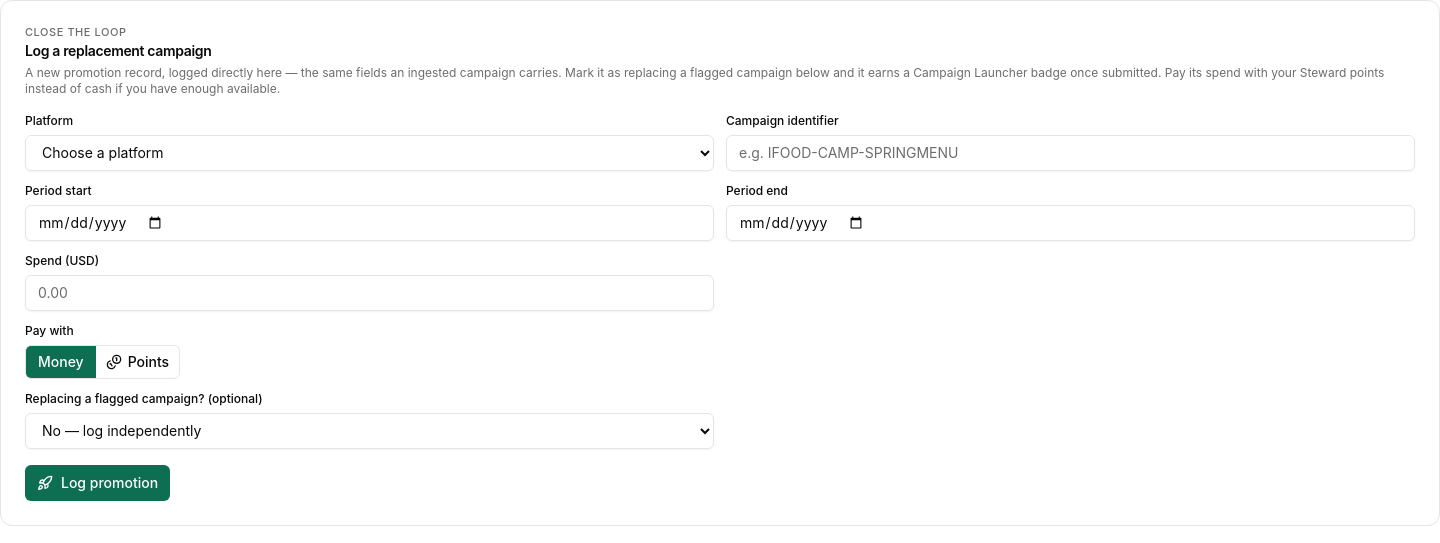
Test: LogReplacementForm › surfaces the real FR-007 refusal from the backend rather than a generic error
Select "Just Eat Takeaway" in the dropdown labelled "Platform" at coordinates (370, 153), box x1=25 y1=135 x2=714 y2=171
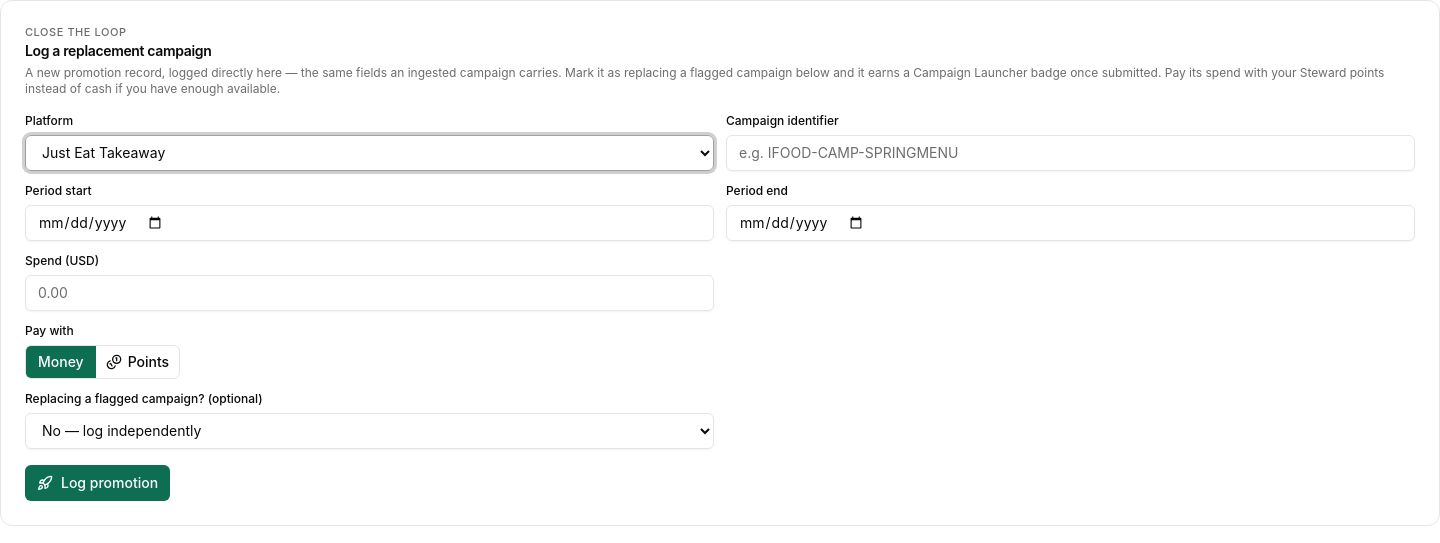
Type "JET-CAMP-NEWREPLACEMENT" into the field labelled "Campaign identifier" at coordinates (1070, 153), box x1=726 y1=135 x2=1415 y2=171
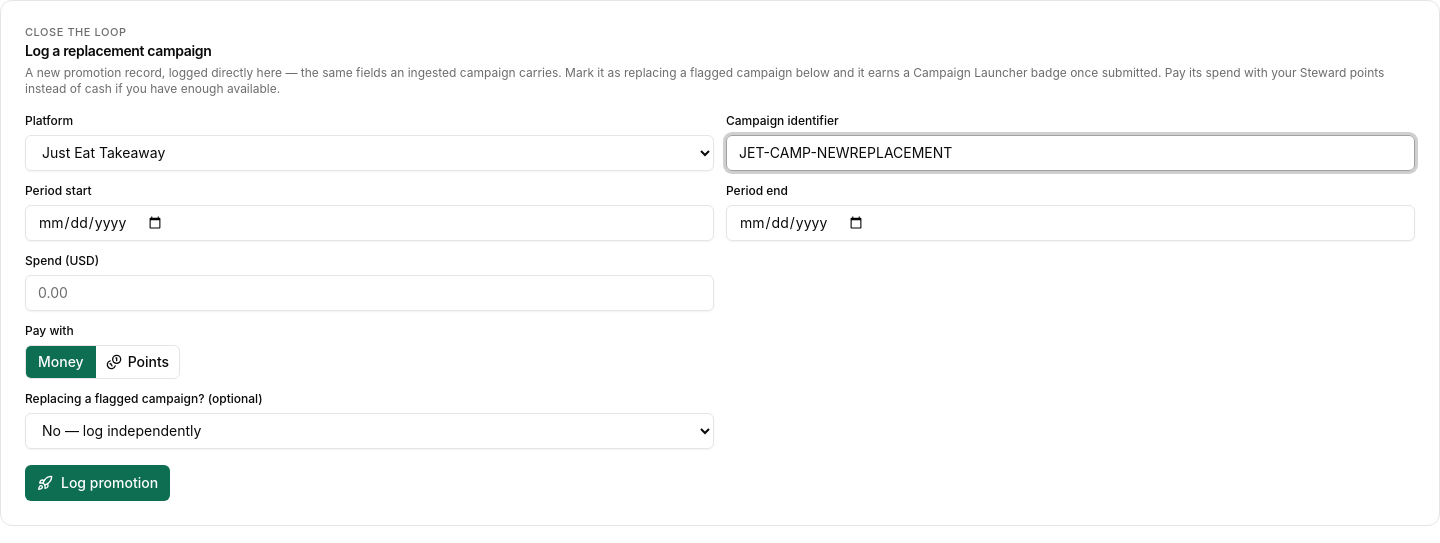
Type "2026-08-15" into the date field labelled "Period start" at coordinates (370, 223), box x1=25 y1=205 x2=714 y2=241
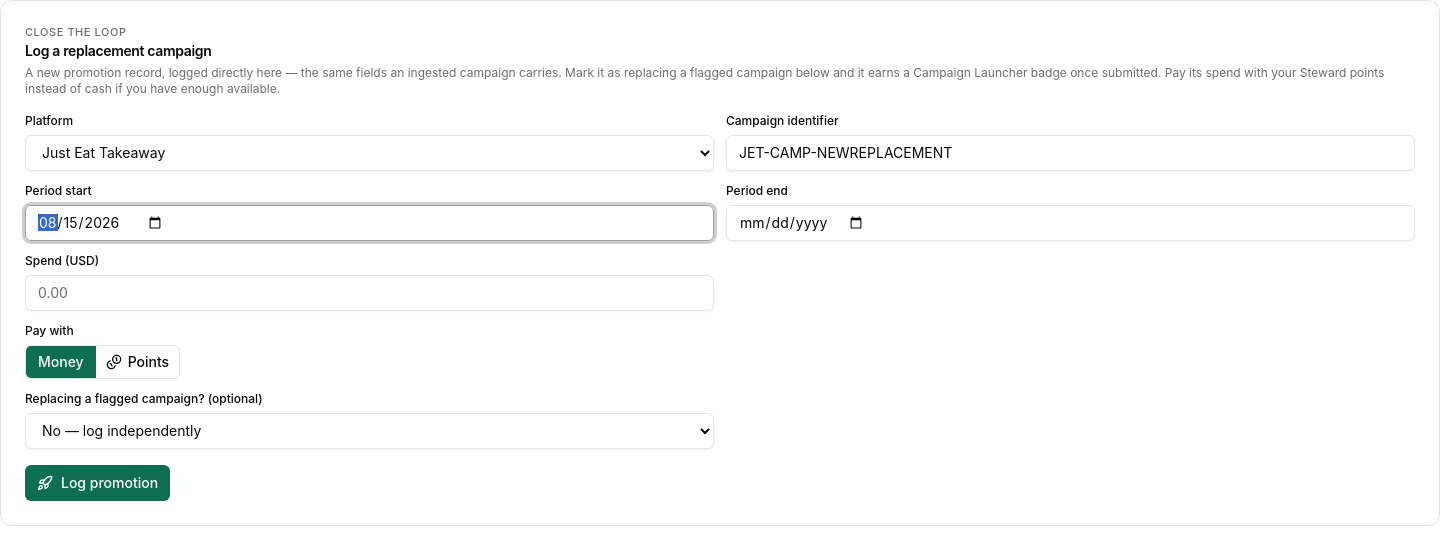
Type "2026-08-21" into the date field labelled "Period end" at coordinates (1070, 223), box x1=726 y1=205 x2=1415 y2=241
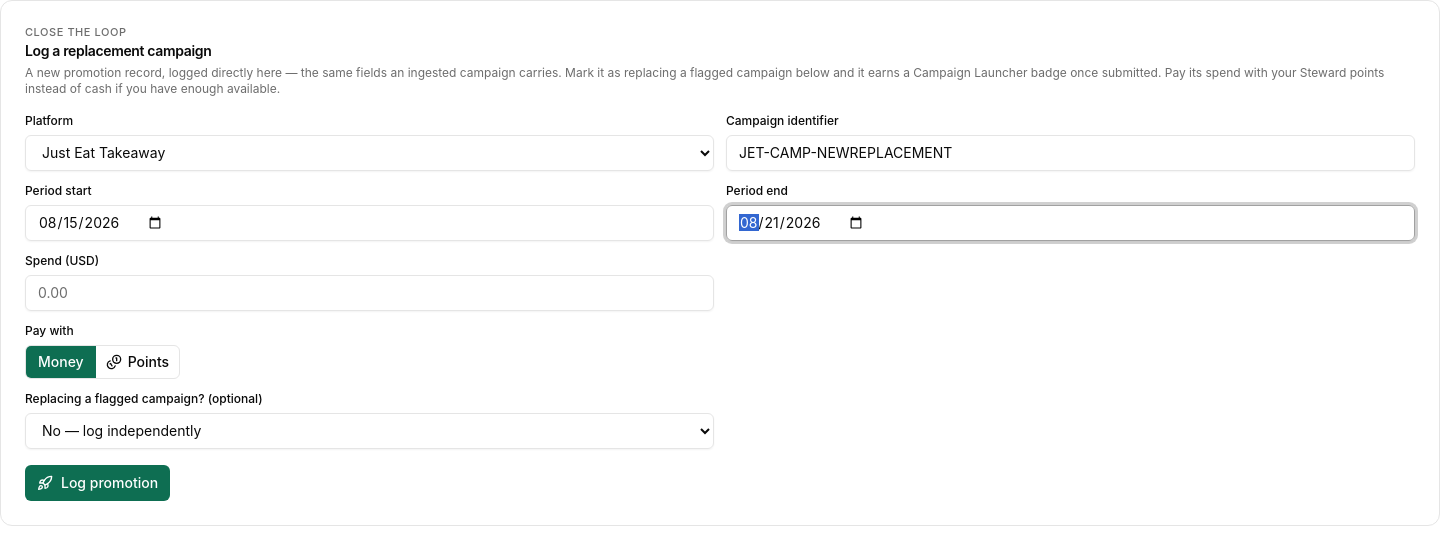
Type "75" into the number field labelled "Spend (USD)" at coordinates (370, 293), box x1=25 y1=275 x2=714 y2=311
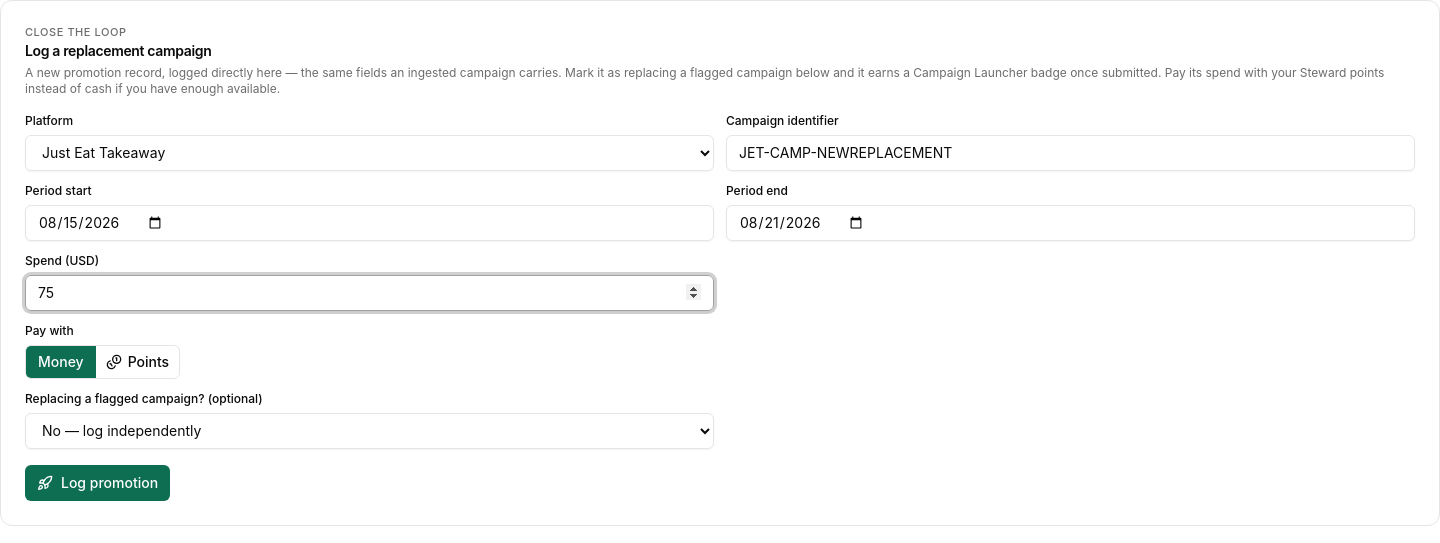
Click the button "Log promotion" at coordinates (98, 483), box x1=25 y1=465 x2=170 y2=501
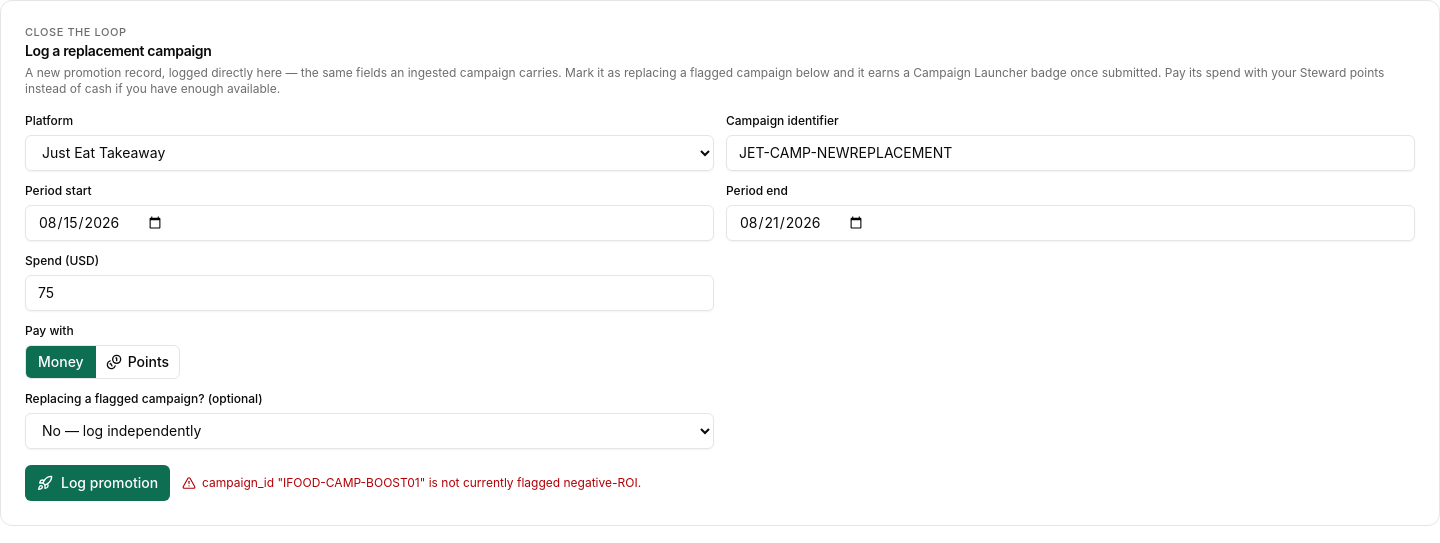
Expected: the message shows "not currently flagged negative-ROI", x1=202 y1=475 x2=641 y2=490
